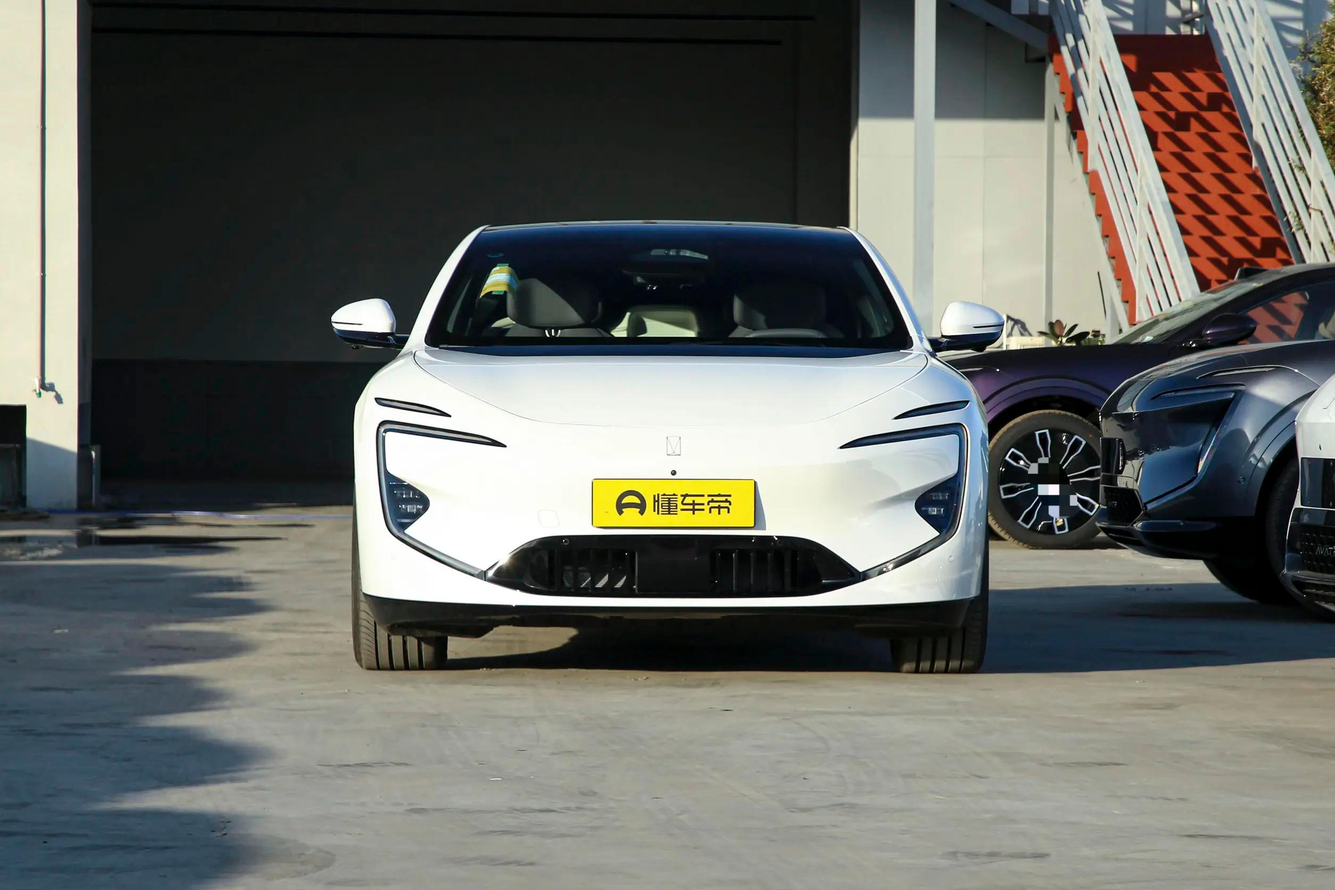AVATR: (667, 436, 680, 455)
